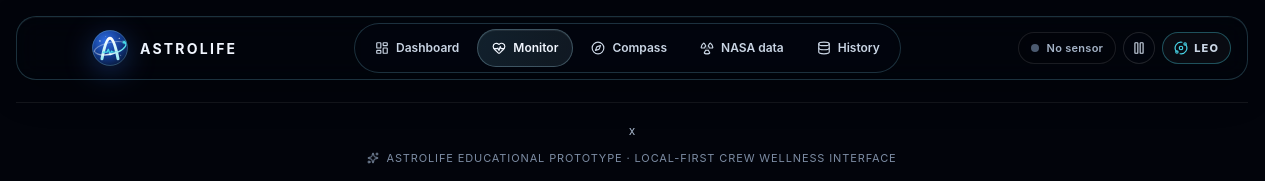
Test: AppShell › lets the user pause background motion and remembers it
Later steps or results of the test are not shown.
Click the button named "Pause background motion" at (1139, 48), box [1123, 32, 1155, 64]
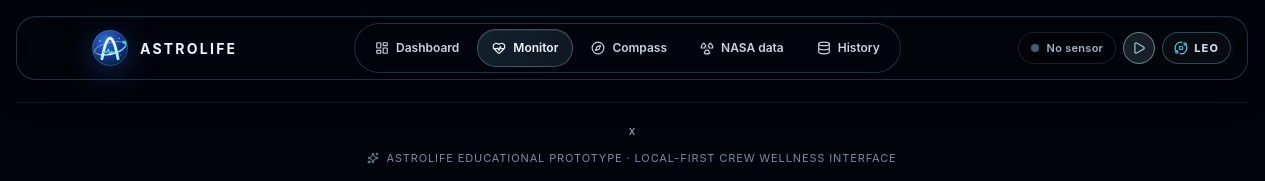
Expected: the button named "Resume background motion" is pressed, [1123, 32, 1155, 64]
